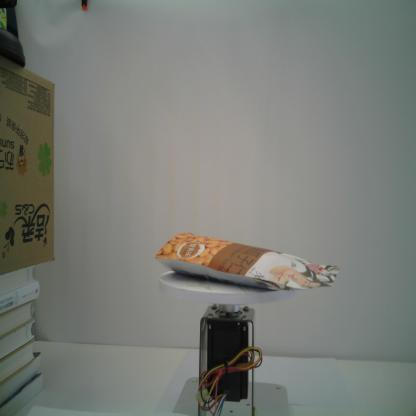Dried Fruit: (154, 231, 340, 291)
